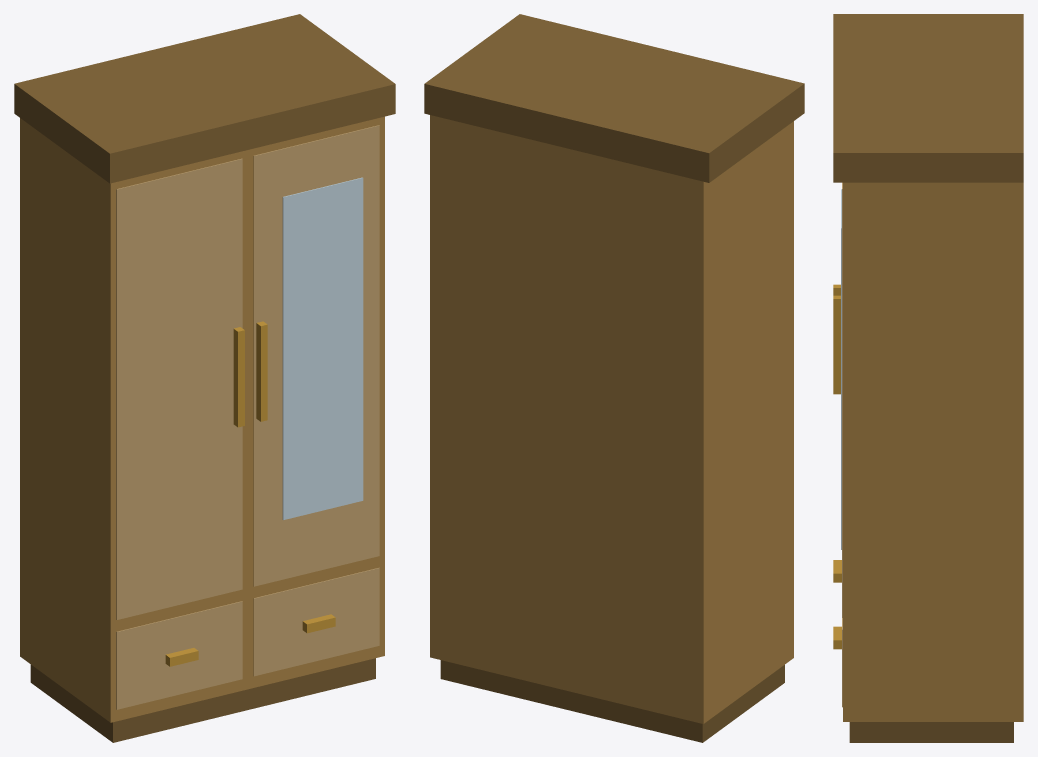
File: wardrobe.glb
3 views of the same model, side by side, from view 1: azimuth 30°, elevation 25°; view 2: azimuth 150°, elevation 25°; view 3: azimuth 270°, elevation 25° (orthographic).
Parts seen in each view (by area): view 1: wardrobe_Body; view 2: wardrobe_Body; view 3: wardrobe_Body.
Part boxes in pixels (x1,y1,x2,y2): wardrobe_Body: (14,14,395,742); wardrobe_Body: (424,14,804,742); wardrobe_Body: (833,14,1023,742).
Size of the model in its own units: 1 by 2 by 0.58.
